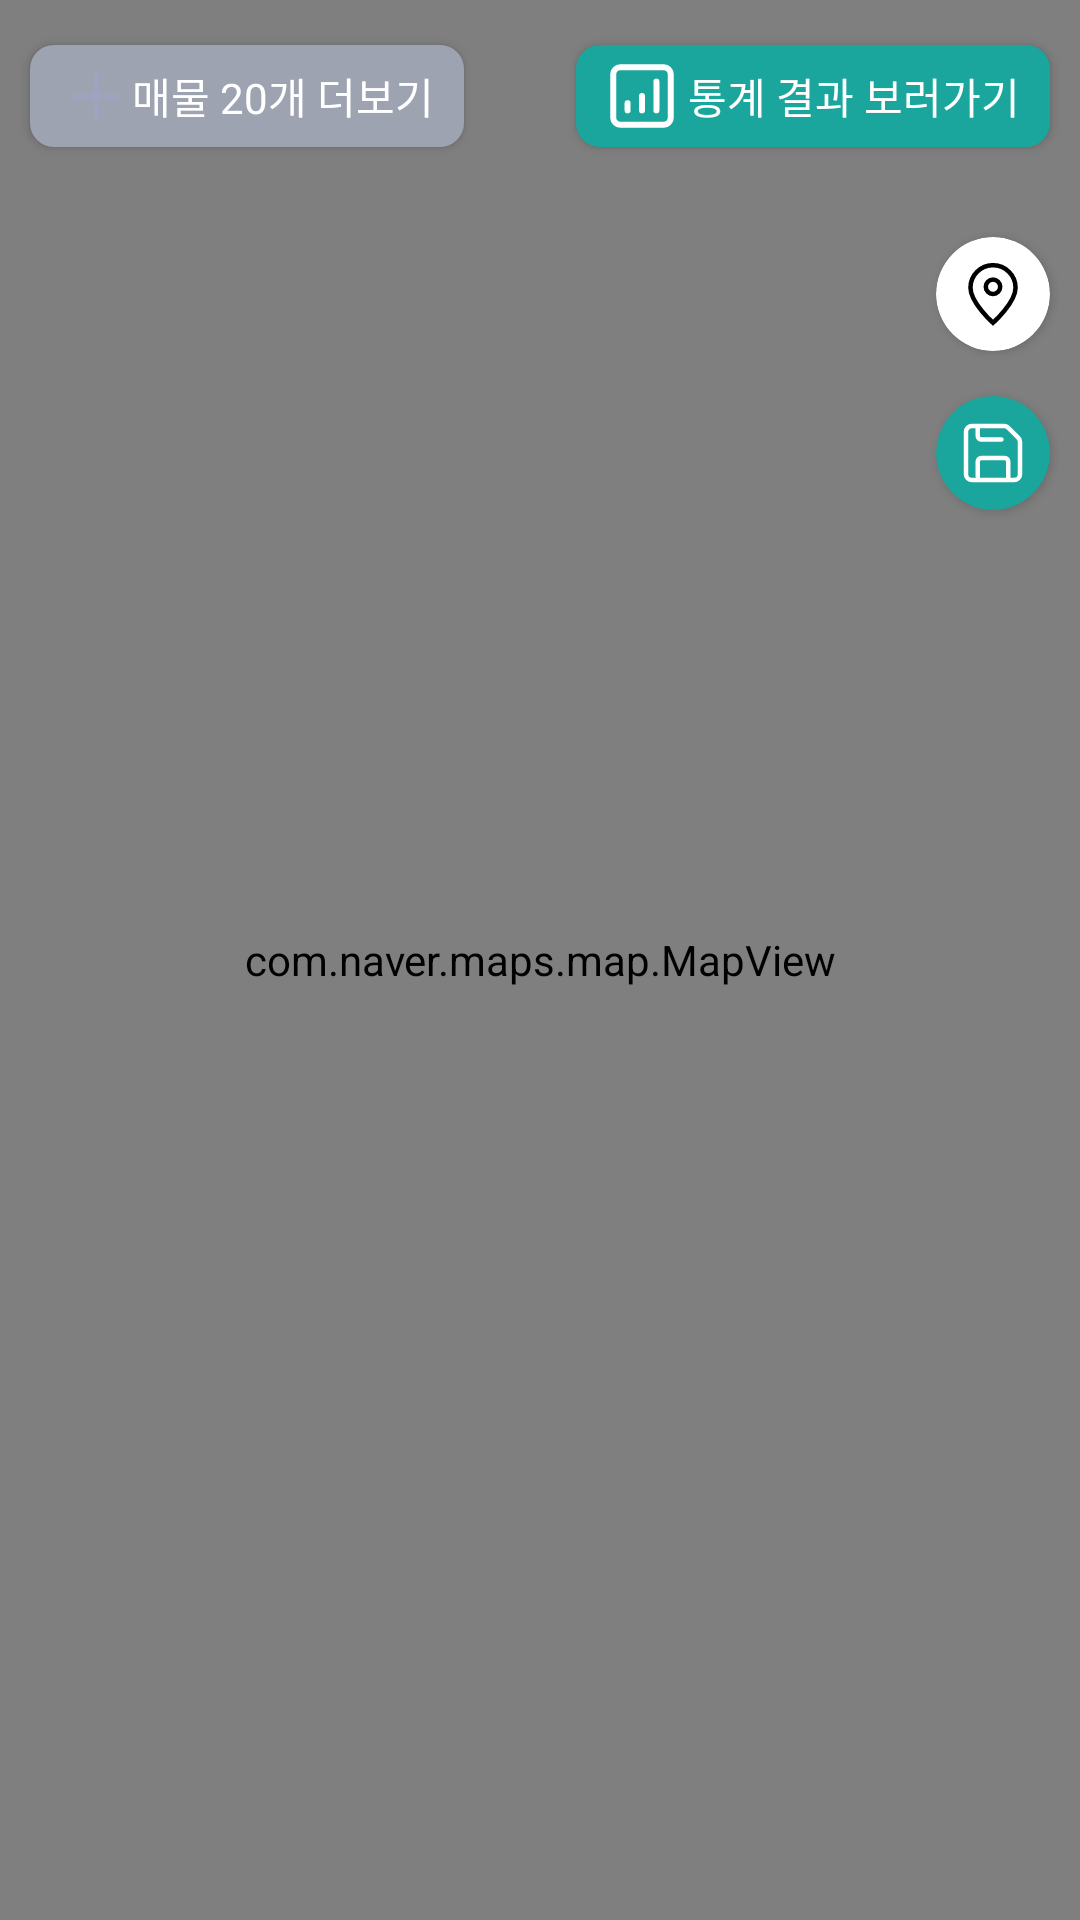

Point at icon controls on the screen. Image size 1080*1920, points as (x=x, y=y).
location: (x=993, y=294)
save: (x=993, y=453)
